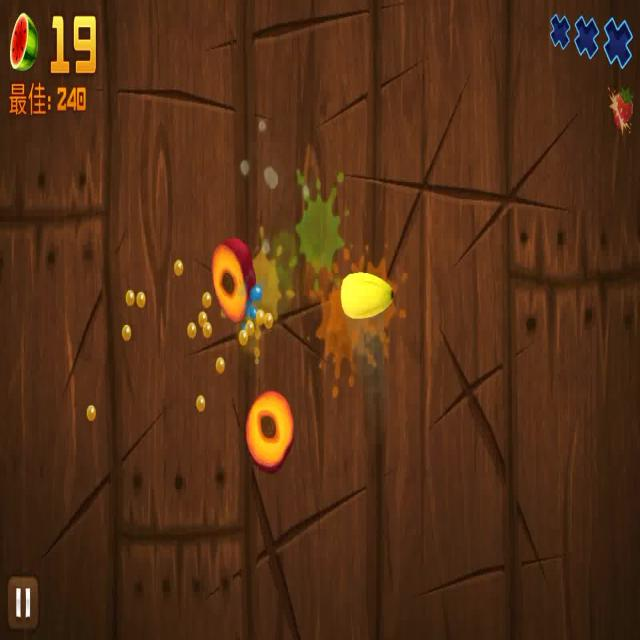fruit: (243, 390, 300, 474), (208, 237, 260, 325), (340, 265, 396, 322)
